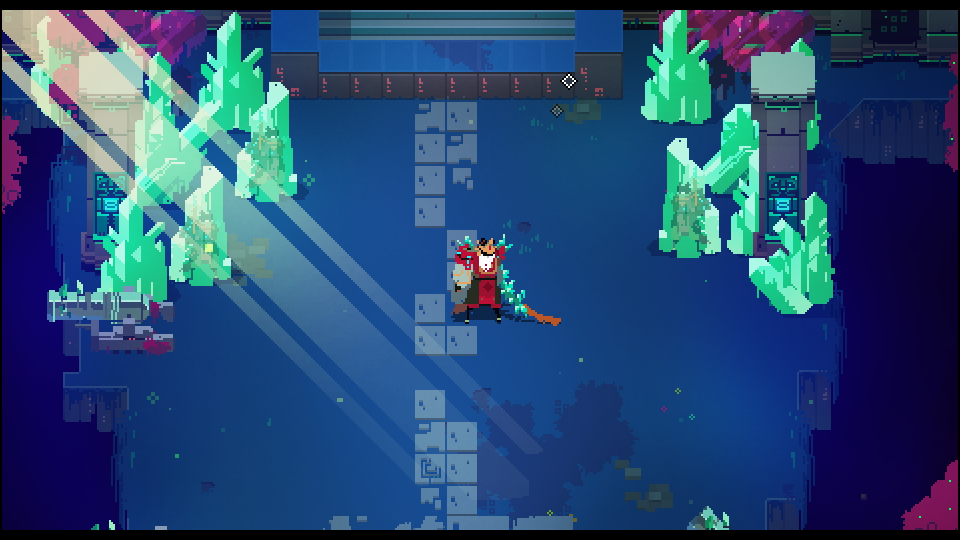hanged_man: (445, 232, 531, 325)
